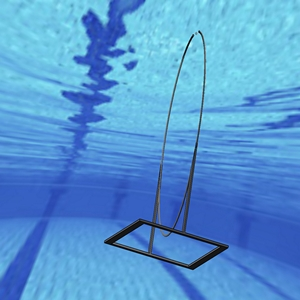circle: (103, 28, 229, 270)
